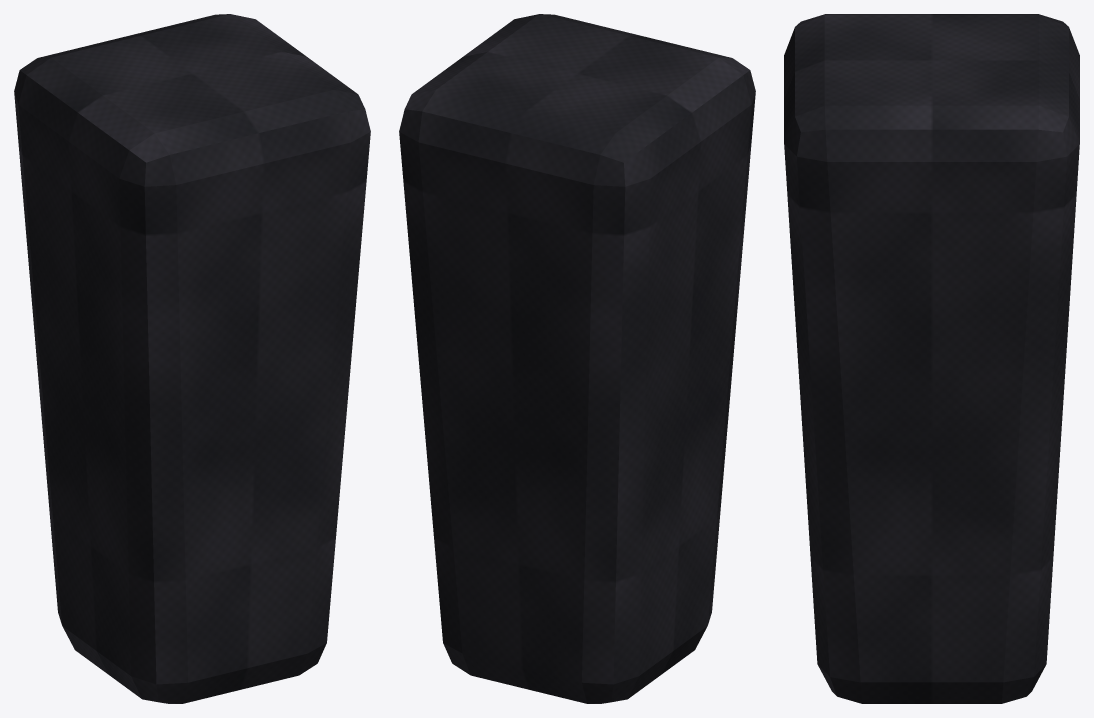
Rendered from Zombie_LegUpperR.obj.
3 renders of one model, left to right at view 1: azimuth 30°, elevation 25°; view 2: azimuth 150°, elevation 25°; view 3: azimuth 270°, elevation 25°, orthographic. The views are drawn at different scales.
Bounding box in the file's own units: 0.2057 × 0.47 × 0.2057.
Materials: 1 (1 with a texture image).
